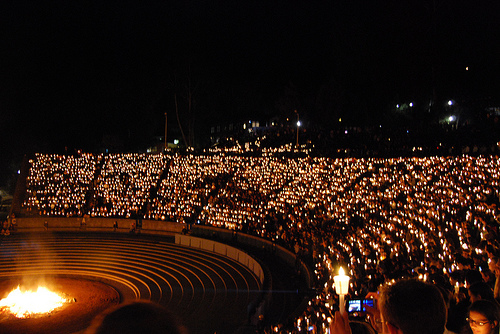fire: (8, 274, 80, 326), (327, 265, 359, 299)
